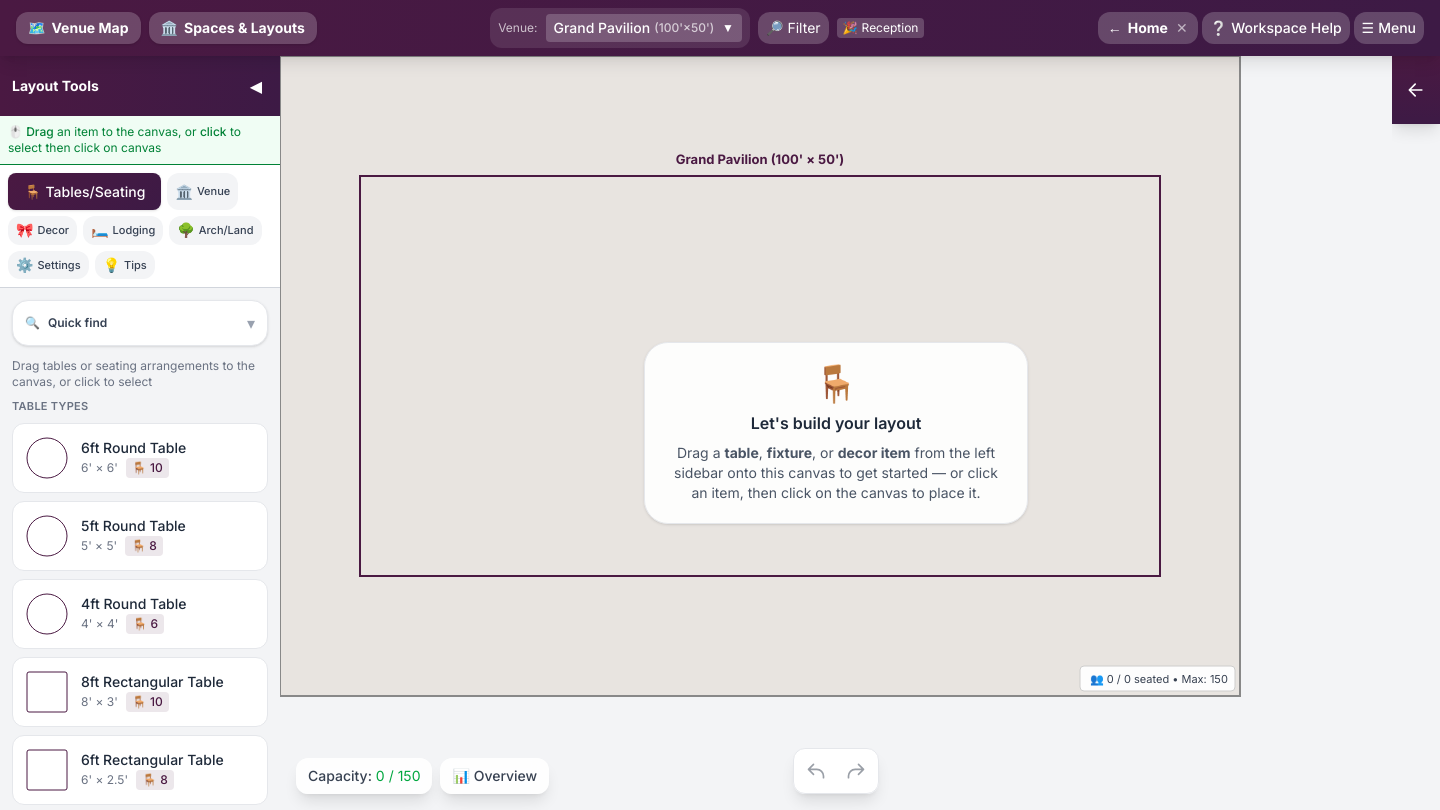
Test: Design Studio empty Master Layout warning › closes the empty Master Layout warning without saving when cancelled
This screenshot has width=1440, height=810.
Click the button "☰ Menu" at (1389, 28), box top-left (1354, 12), bottom-right (1424, 44)
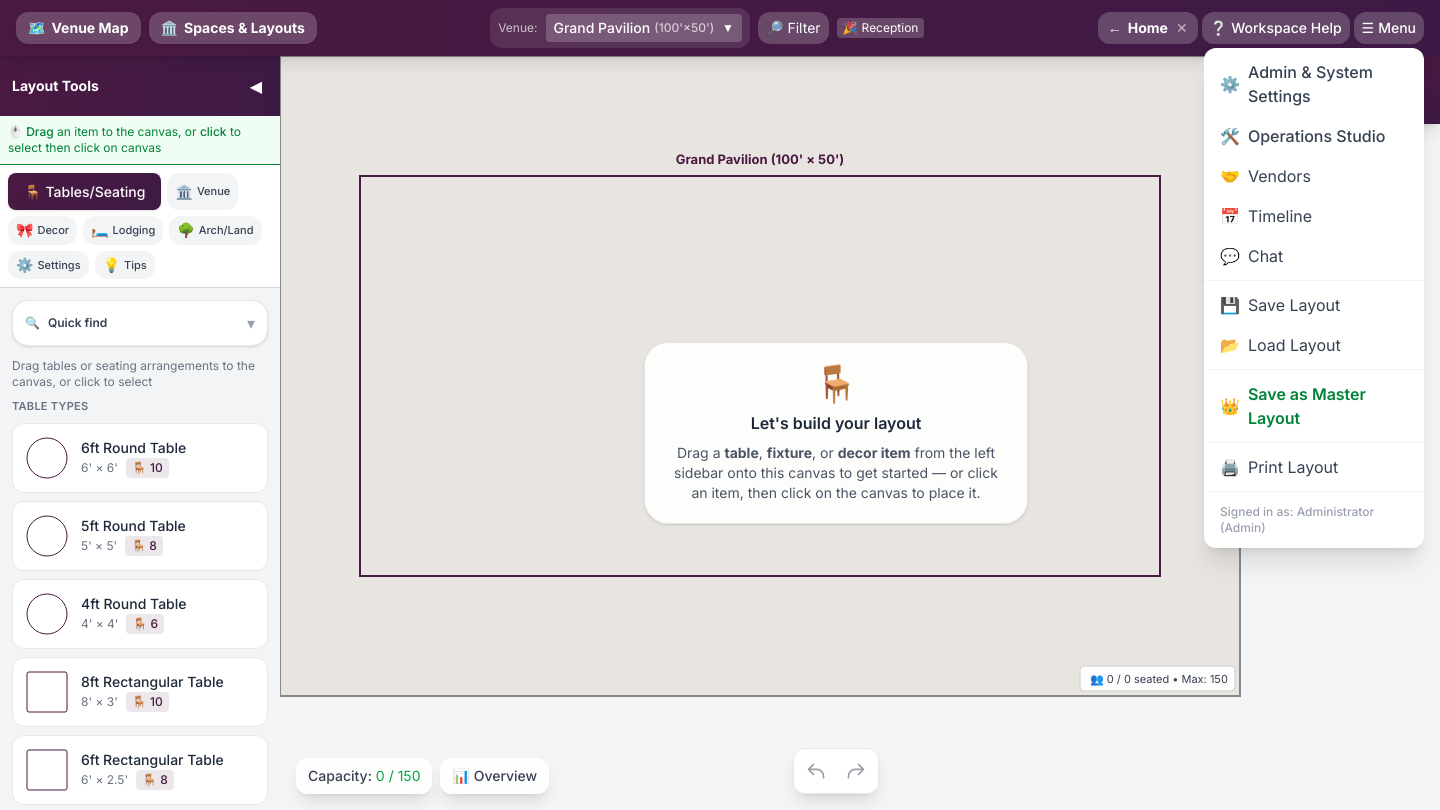
Click the button "👑 Save as Master Layout" at (1314, 406), box top-left (1204, 374), bottom-right (1424, 438)
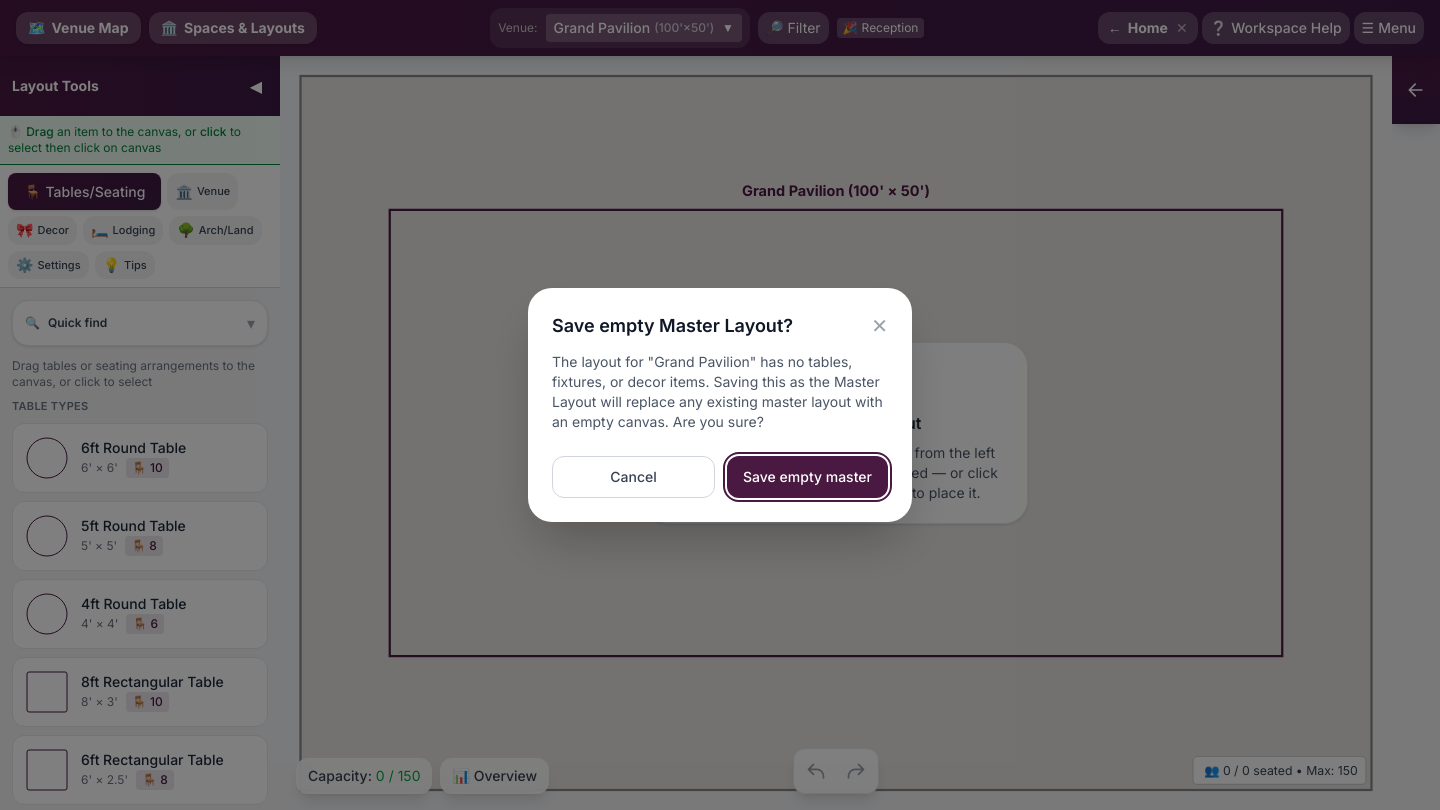
Expected: the heading "Save empty Master Layout?" is shown, top-left (552, 312), bottom-right (793, 340)
Note: Click Cancel
Click the button "Cancel" at (634, 477), box top-left (552, 456), bottom-right (715, 498)
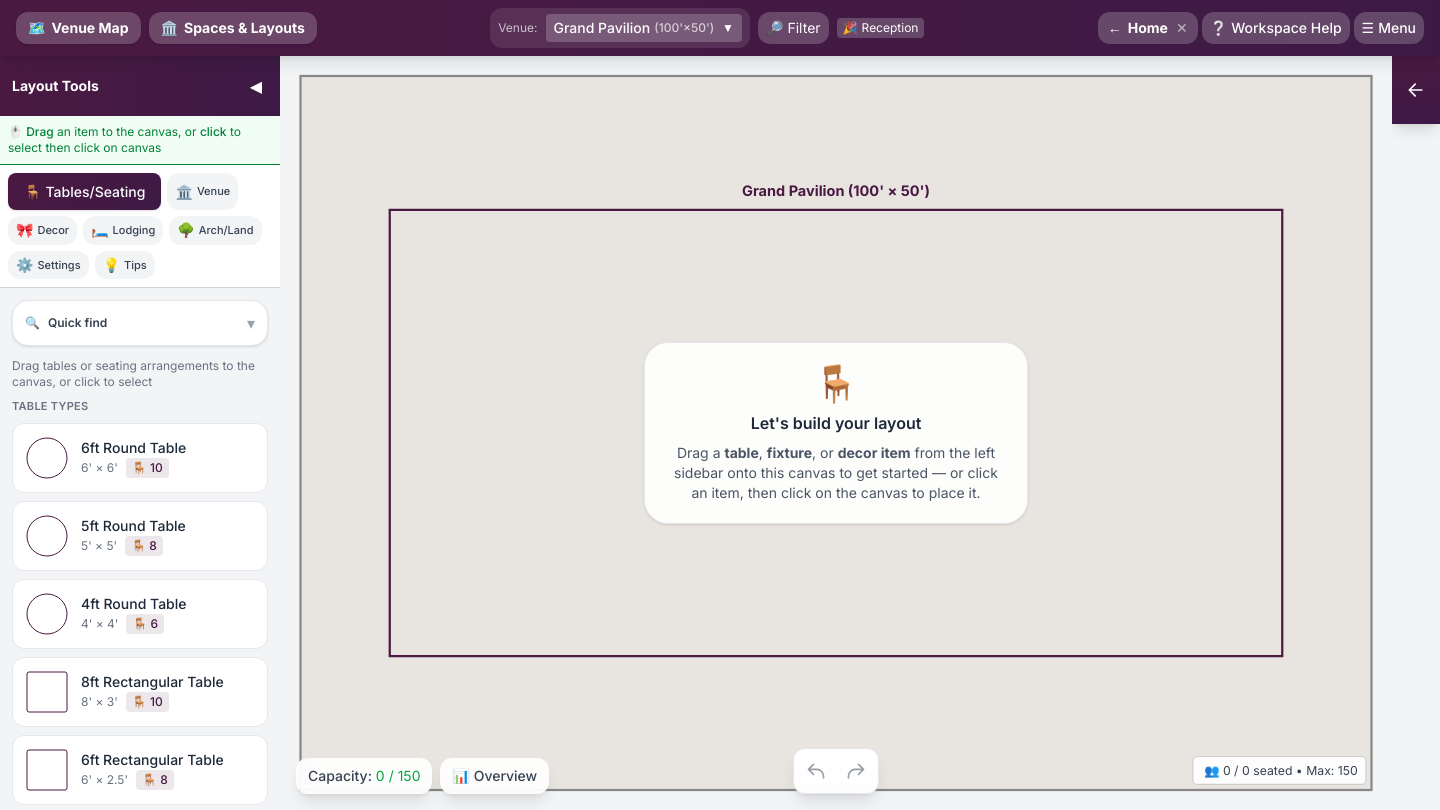
Expected: the heading "Save empty Master Layout?" is gone
